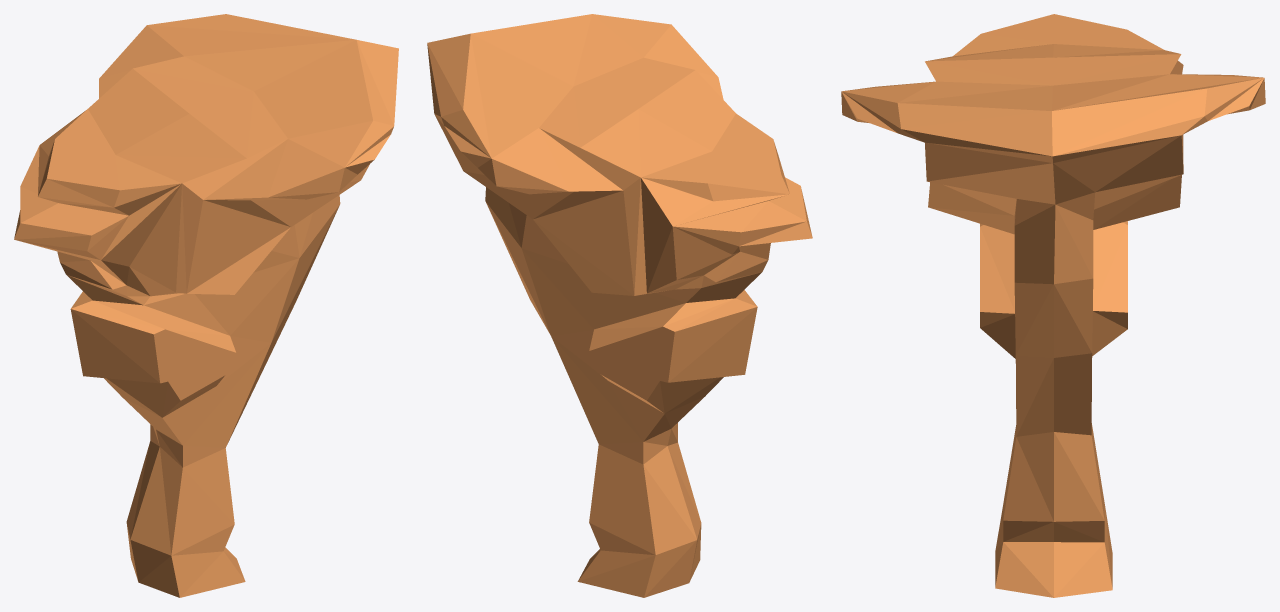
The model's file is Rock_Large_Canyon_Eroded_05.FBX.
The picture shows the model from 3 angles, left to right: view 1: azimuth 30°, elevation 25°; view 2: azimuth 150°, elevation 25°; view 3: azimuth 270°, elevation 25°; orthographic projection. The views are drawn at different scales.
Parts seen in each view (by area): view 1: Rock_Large_Canyon_Eroded_05; view 2: Rock_Large_Canyon_Eroded_05; view 3: Rock_Large_Canyon_Eroded_05.
Boxes of the visible parts, x1=… form: Rock_Large_Canyon_Eroded_05: x1=14, y1=14, x2=398, y2=597; Rock_Large_Canyon_Eroded_05: x1=427, y1=14, x2=812, y2=597; Rock_Large_Canyon_Eroded_05: x1=841, y1=14, x2=1265, y2=597.
Bounding box in the file's own units: 10193 × 12462 × 8683.
